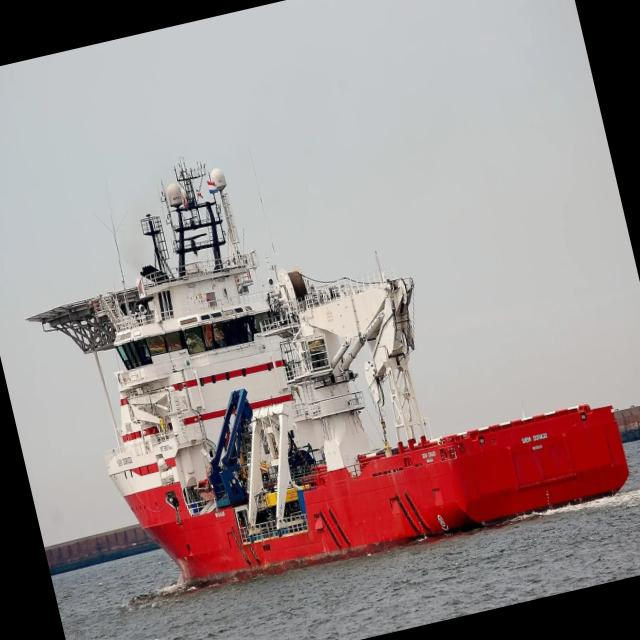Offshore: (29, 162, 628, 582)
